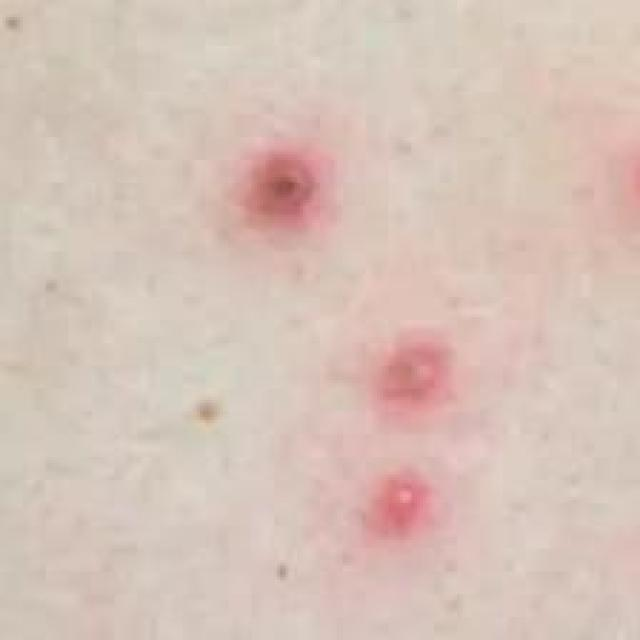monkeypox: (180, 159, 516, 560)
